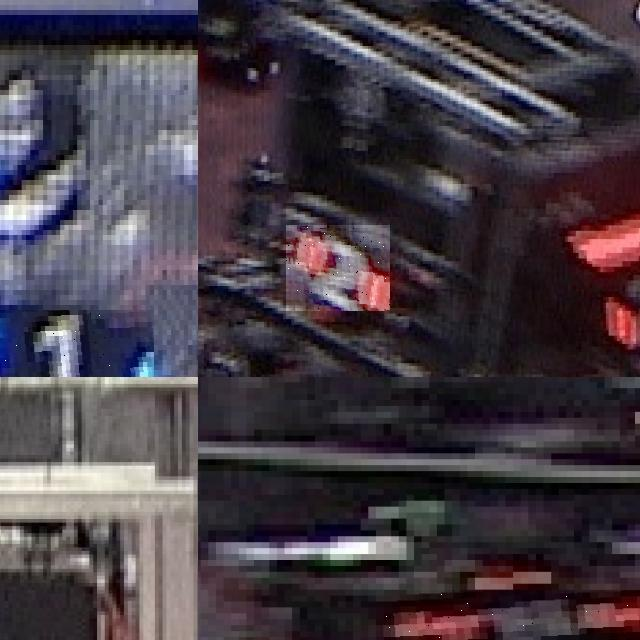B1: (0, 310, 154, 377)
R1: (383, 589, 640, 640)
R2: (286, 225, 390, 311), (603, 274, 640, 349)
